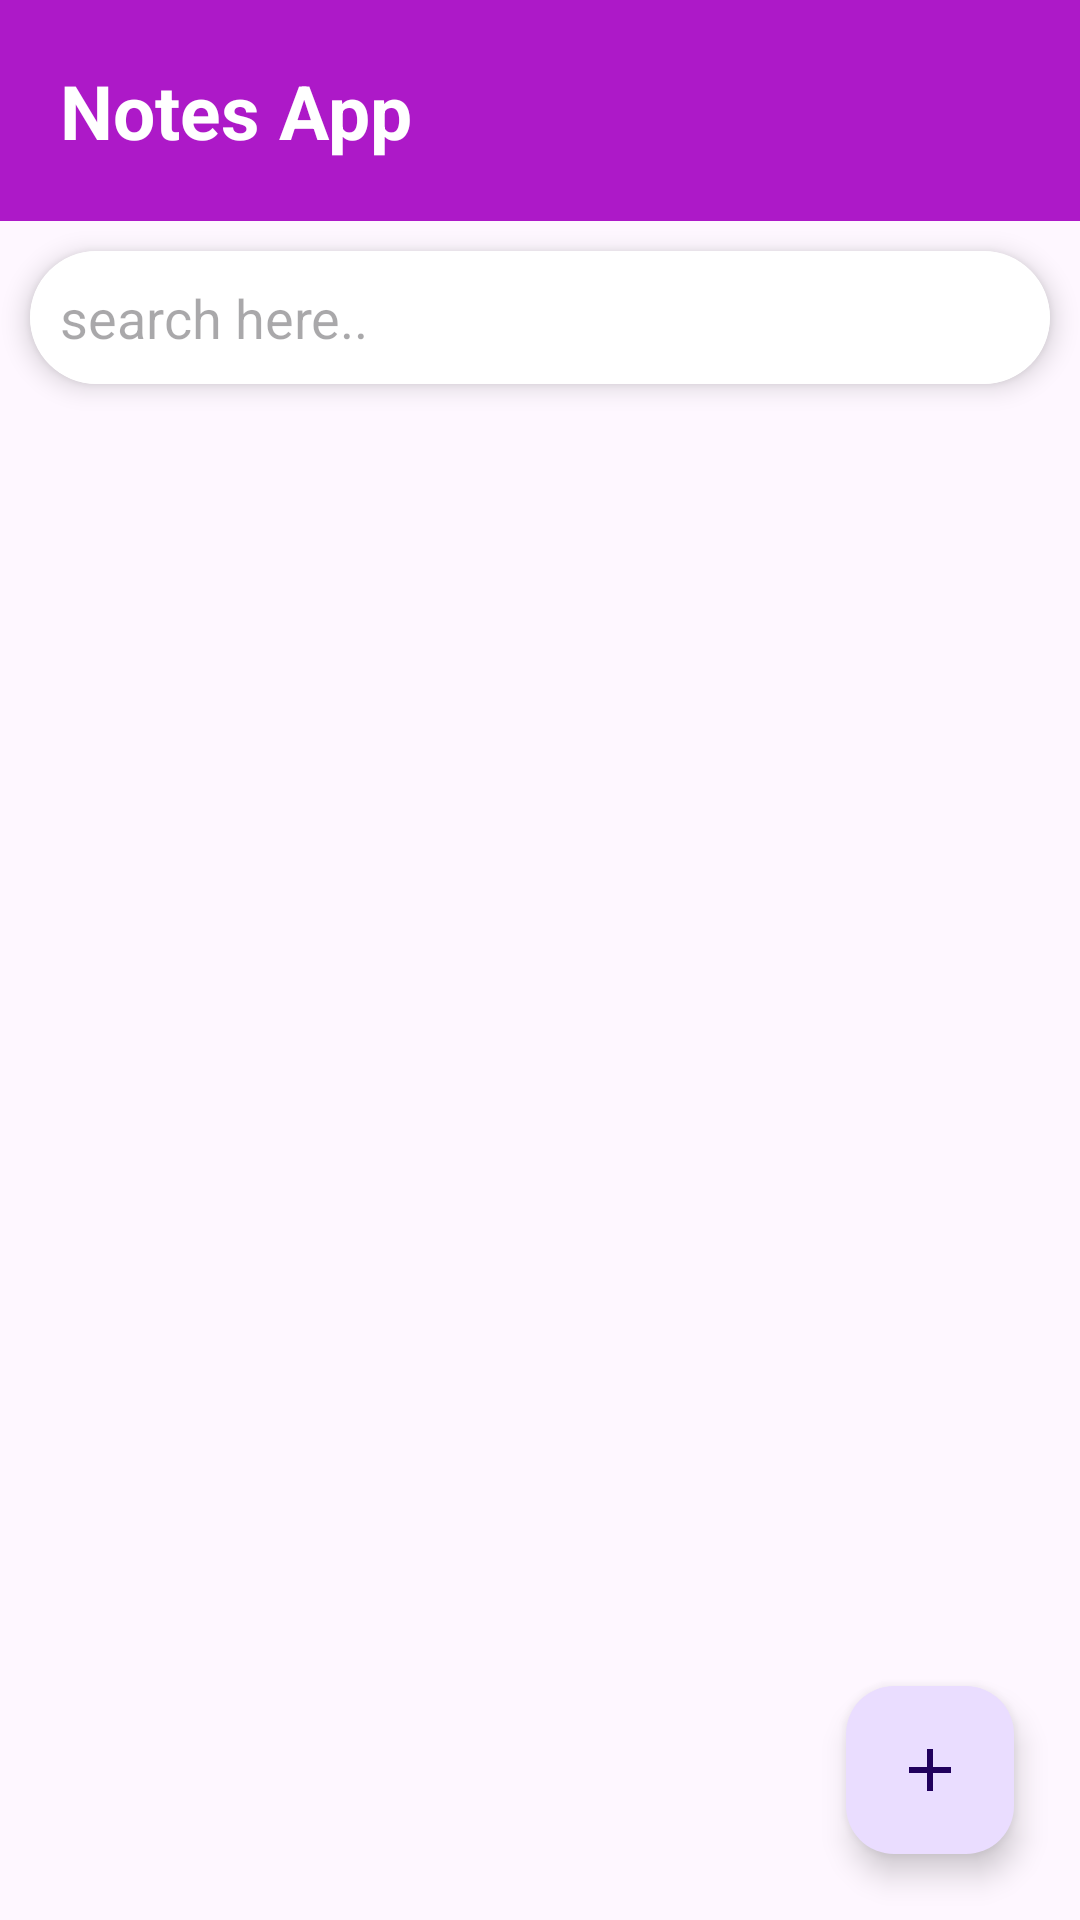

Where icons sit on this 1080 × 1920 app screen, as {"x1": x1, "y1": y1, "x2": x2, "y2": y2}:
add: {"x1": 846, "y1": 1686, "x2": 1014, "y2": 1854}
